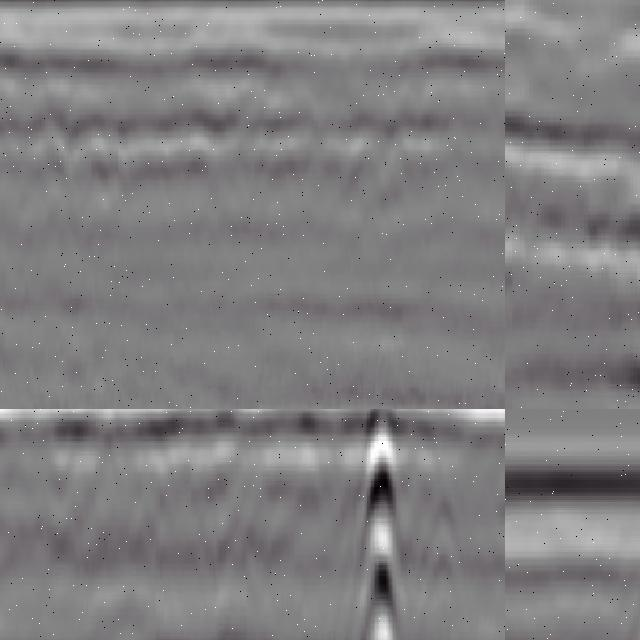crack: (366, 410, 398, 640)
loose: (11, 48, 454, 181)
